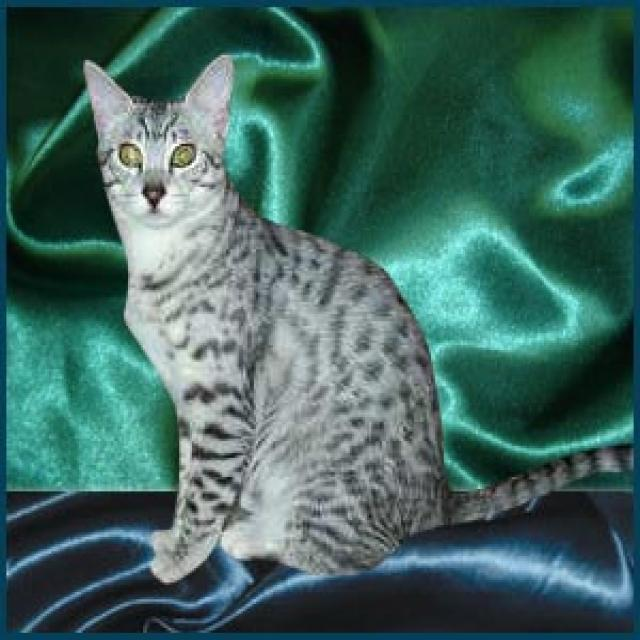Egyptian_Mau: (81, 53, 230, 225)
